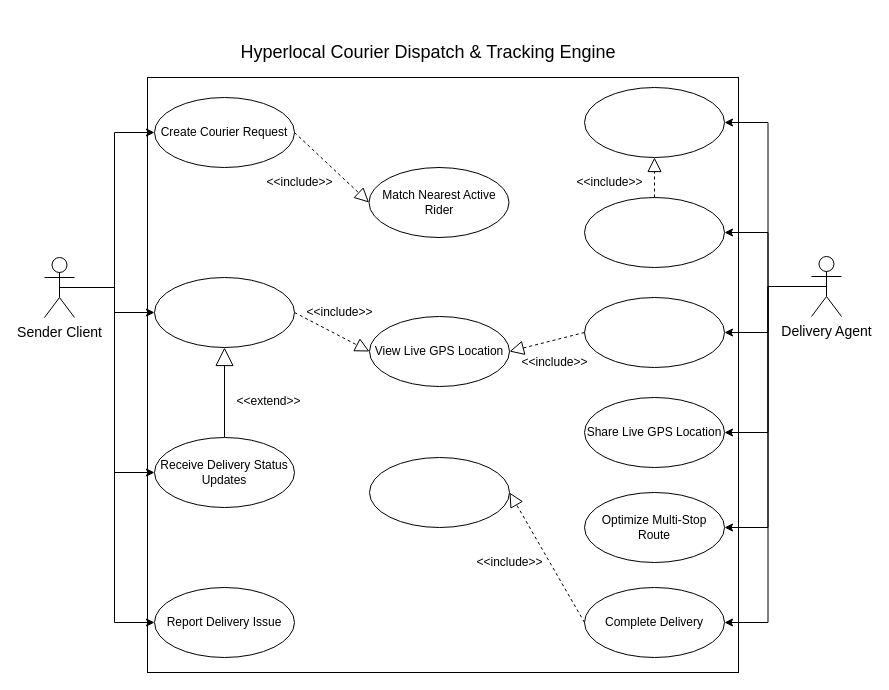
Image size: 889x690. Some labels were removed from this diagram. Here are the shapes that lost their labels. From the top down, the centre of each, then its label:
At (x=654, y=122): "Receive Dispatch Notification".
At (x=654, y=232): "Accept Delivery Request".
At (x=224, y=312): "Track Delivery".
At (x=654, y=332): "Update Delivery Status".
At (x=439, y=492): "Verify Delivery OTP".
